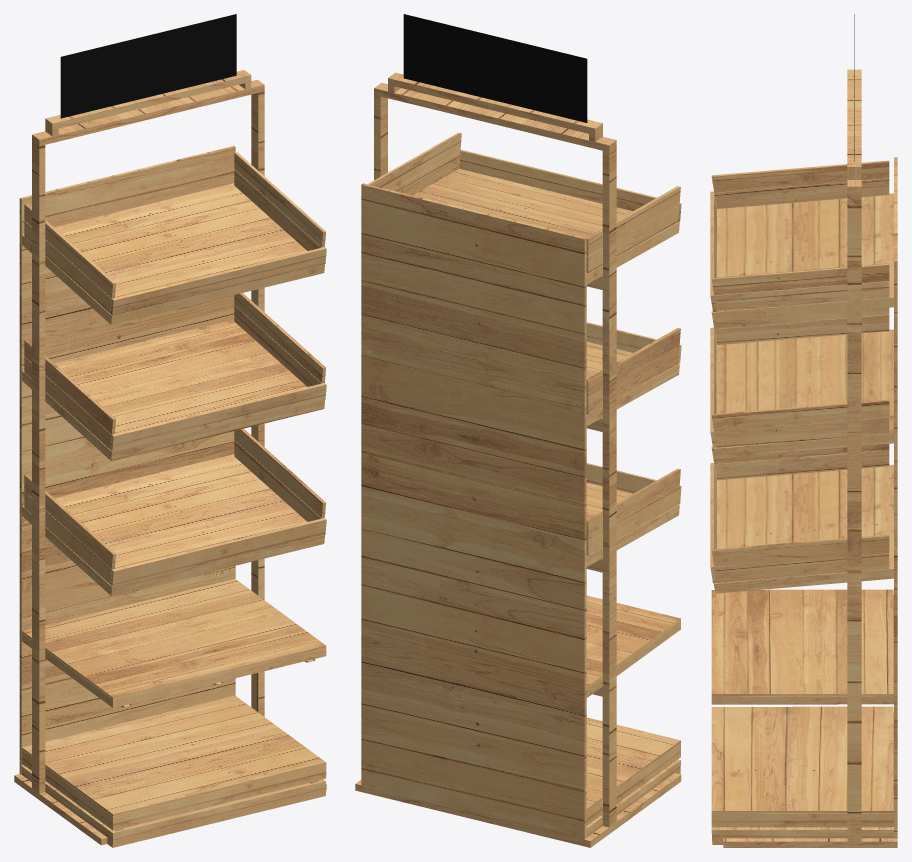
The model's file is displayrack2.fbx.
The picture shows the model from 3 angles, left to right: view 1: azimuth 30°, elevation 25°; view 2: azimuth 150°, elevation 25°; view 3: azimuth 270°, elevation 25°; orthographic projection. The views are drawn at different scales.
Visible parts, largest first — view 1: Object_20, Object_4, Object_6, Object_10; view 2: Object_4, Object_20, Object_6, Object_10; view 3: Object_20, Object_6, Object_4.
Boxes of the visible parts, x1=… form: Object_20: x1=22, y1=152, x2=326, y2=847; Object_4: x1=19, y1=146, x2=235, y2=774; Object_6: x1=14, y1=70, x2=326, y2=845; Object_10: x1=60, y1=14, x2=236, y2=118; Object_4: x1=361, y1=183, x2=586, y2=846; Object_20: x1=367, y1=132, x2=681, y2=837; Object_6: x1=355, y1=72, x2=681, y2=847; Object_10: x1=403, y1=14, x2=587, y2=122; Object_20: x1=710, y1=160, x2=893, y2=844; Object_6: x1=723, y1=69, x2=897, y2=847; Object_4: x1=894, y1=157, x2=897, y2=838.
Size of the model in its own units: 66.45 by 92.6 by 288.
Materials: 3 (2 with a texture image).
